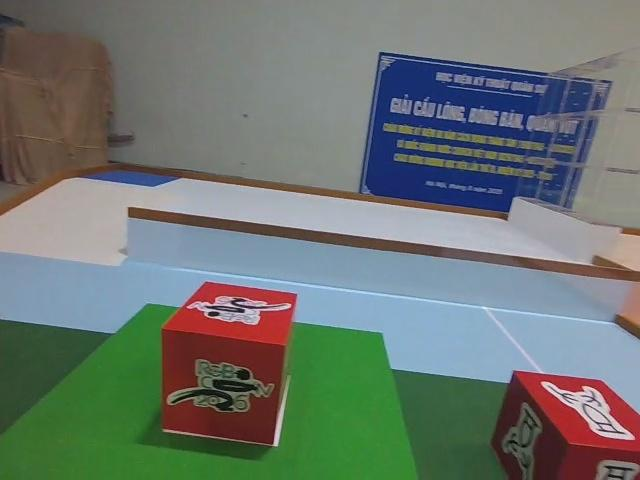R1: (159, 278, 297, 445)
R2 Real: (491, 367, 640, 480)
